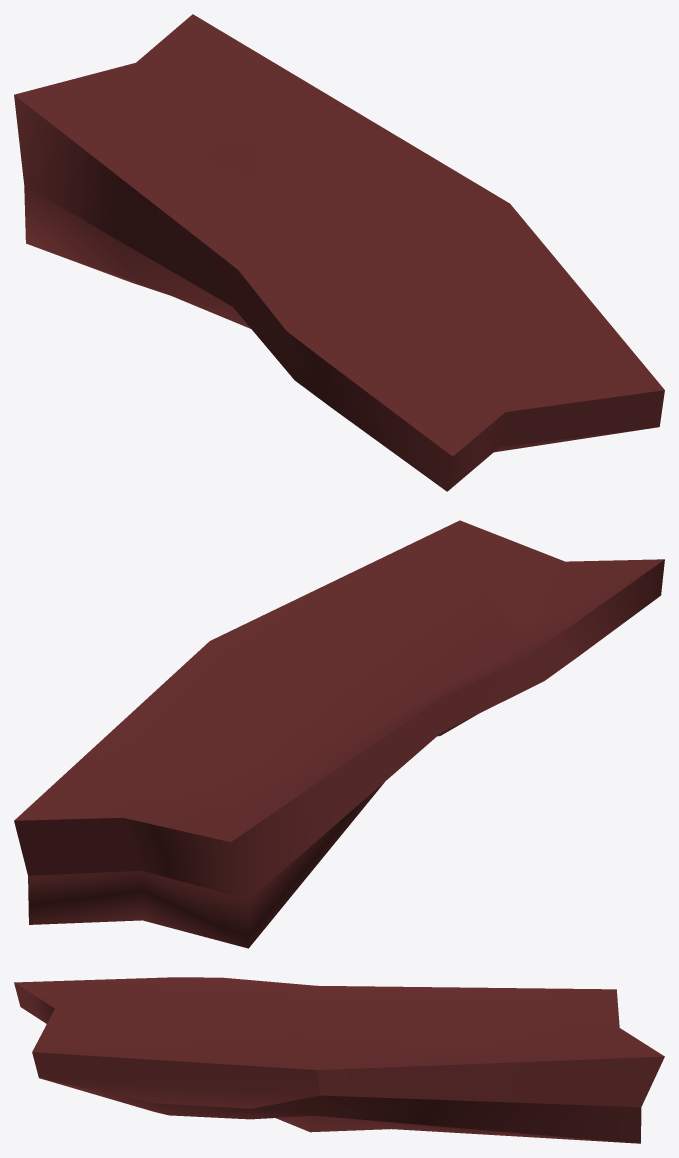
File: FloatEarth4.fbx
3 renders of one model, top to bottom at view 1: azimuth 30°, elevation 25°; view 2: azimuth 150°, elevation 25°; view 3: azimuth 270°, elevation 25°, orthographic. The views are drawn at different scales.
Visible parts, largest first — view 1: FloatEarth4; view 2: FloatEarth4; view 3: FloatEarth4.
Part boxes in pixels (x1,y1,x2,y2): FloatEarth4: [14, 14, 664, 491]; FloatEarth4: [14, 520, 664, 948]; FloatEarth4: [14, 977, 664, 1143].
Size of the model in its own units: 276 by 130 by 792.
